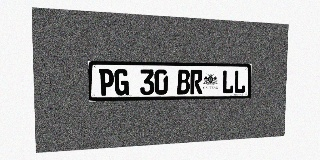0: (154, 69, 168, 95)
3: (140, 69, 154, 95)
B: (177, 70, 190, 94)
G: (114, 69, 129, 95)
L: (222, 70, 234, 94), (234, 70, 246, 94)
P: (99, 69, 114, 96)
R: (190, 70, 203, 94)
